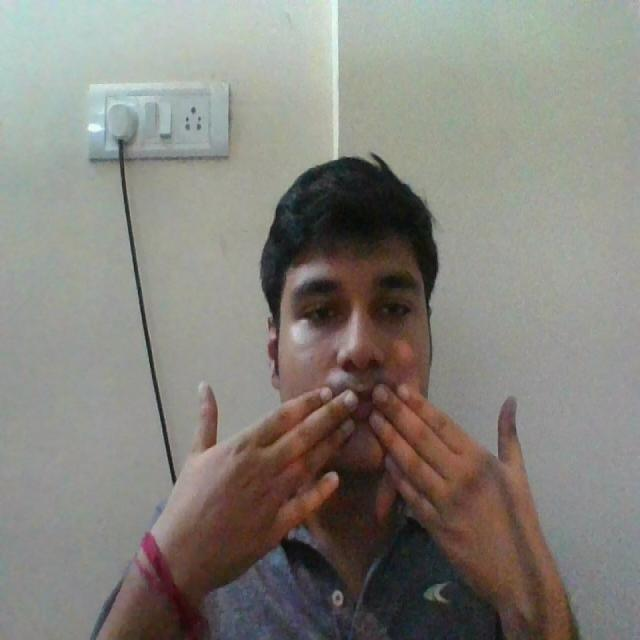Thanks: (183, 371, 568, 640)
